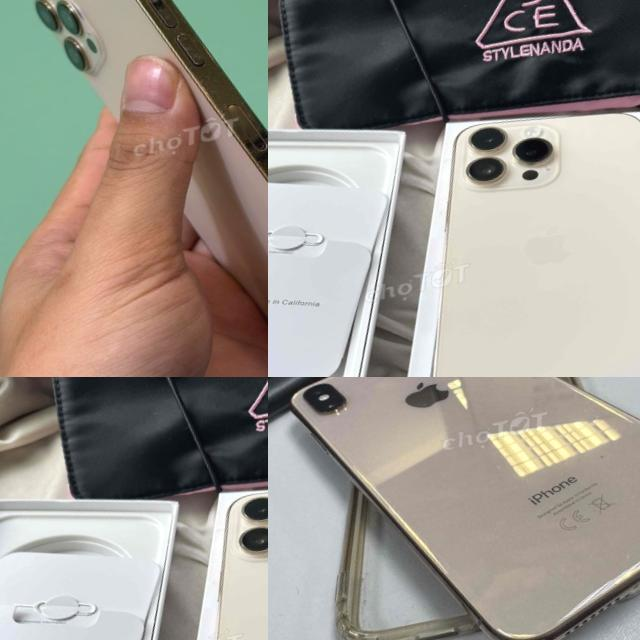scratch: (101, 0, 268, 221), (613, 544, 640, 568), (629, 508, 640, 533)
